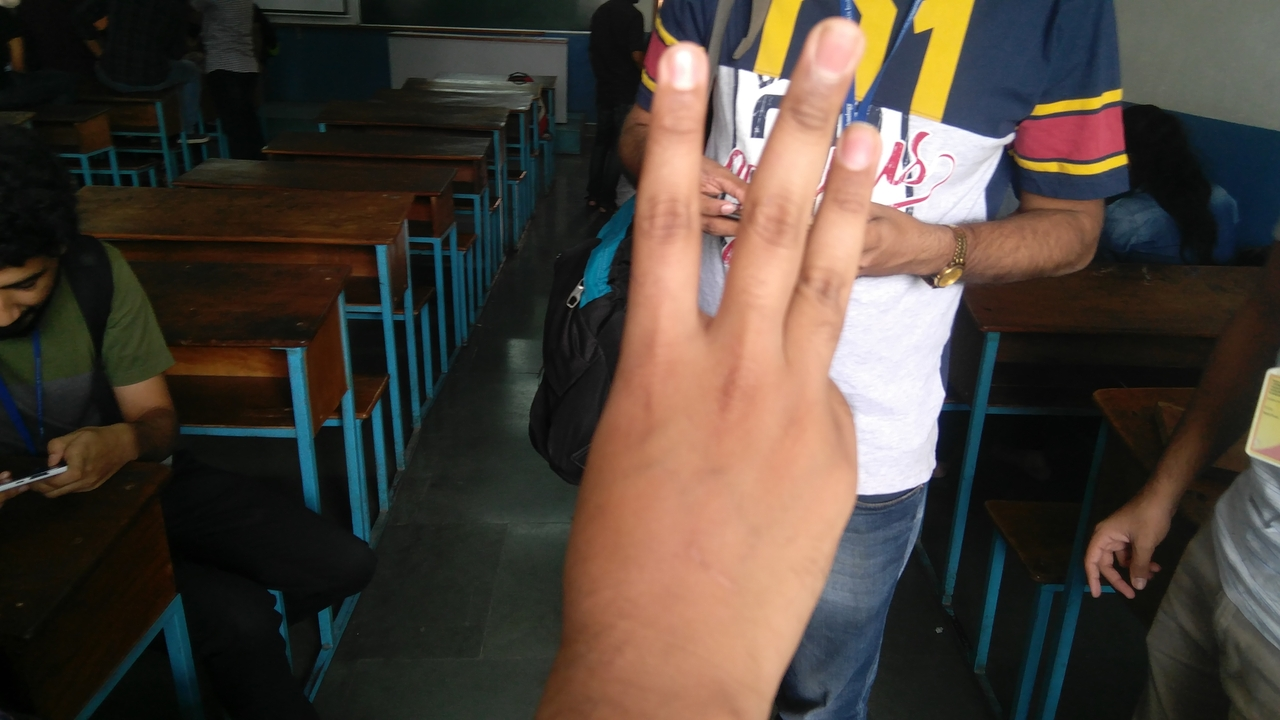fingertip: (804, 4, 874, 78), (828, 110, 888, 180), (646, 32, 706, 100)
